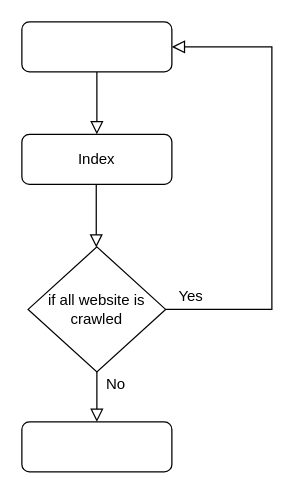
The diagram is 306 pixels wide and 494 high, and some of its shapes have lost their labels. The box of each missing label's shape, as (x1, y1, x2, y2) in pixels:
Follow hyperlinks of that page: (21, 421, 172, 472)
Visit Website: (21, 21, 172, 72)
